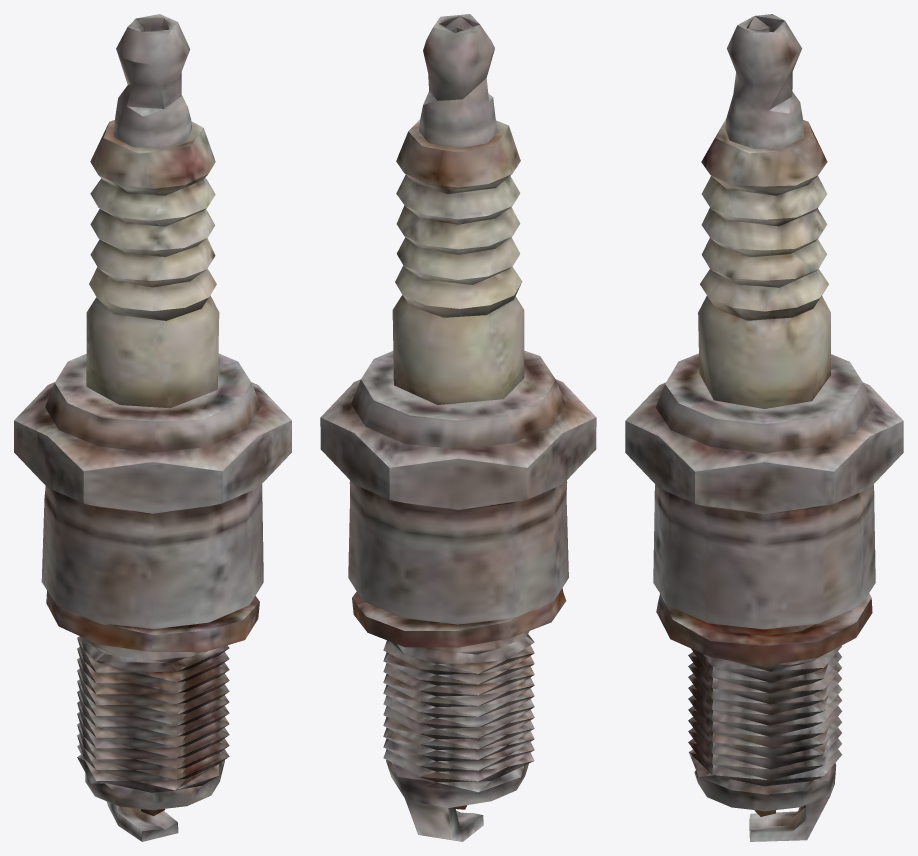
The model's file is rusty_spark_plug.glb.
3 renders of one model, left to right at view 1: azimuth 30°, elevation 25°; view 2: azimuth 150°, elevation 25°; view 3: azimuth 270°, elevation 25°, orthographic.
Visible parts, largest first — view 1: rusty_spark_plug; view 2: rusty_spark_plug; view 3: rusty_spark_plug.
Boxes of the visible parts, <box> form: rusty_spark_plug: <box>14,14,291,841</box>; rusty_spark_plug: <box>320,14,596,841</box>; rusty_spark_plug: <box>625,14,903,841</box>.
Size of what is drawn, in the model's own units: 0.0284 by 0.1044 by 0.0325.
Materials: 1 (1 with a texture image).
